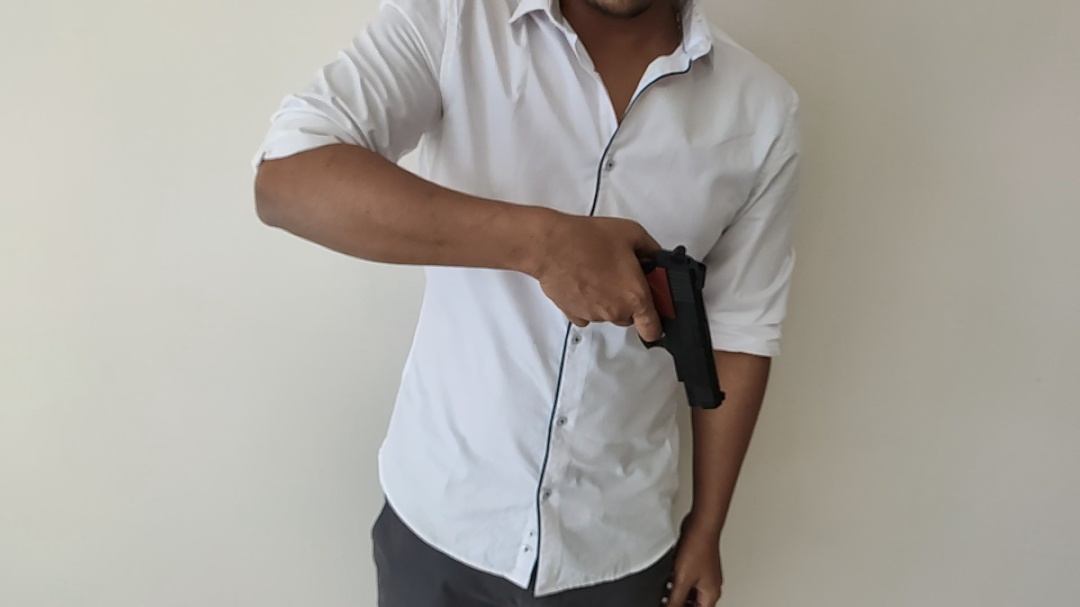gun: (639, 245, 727, 410)
